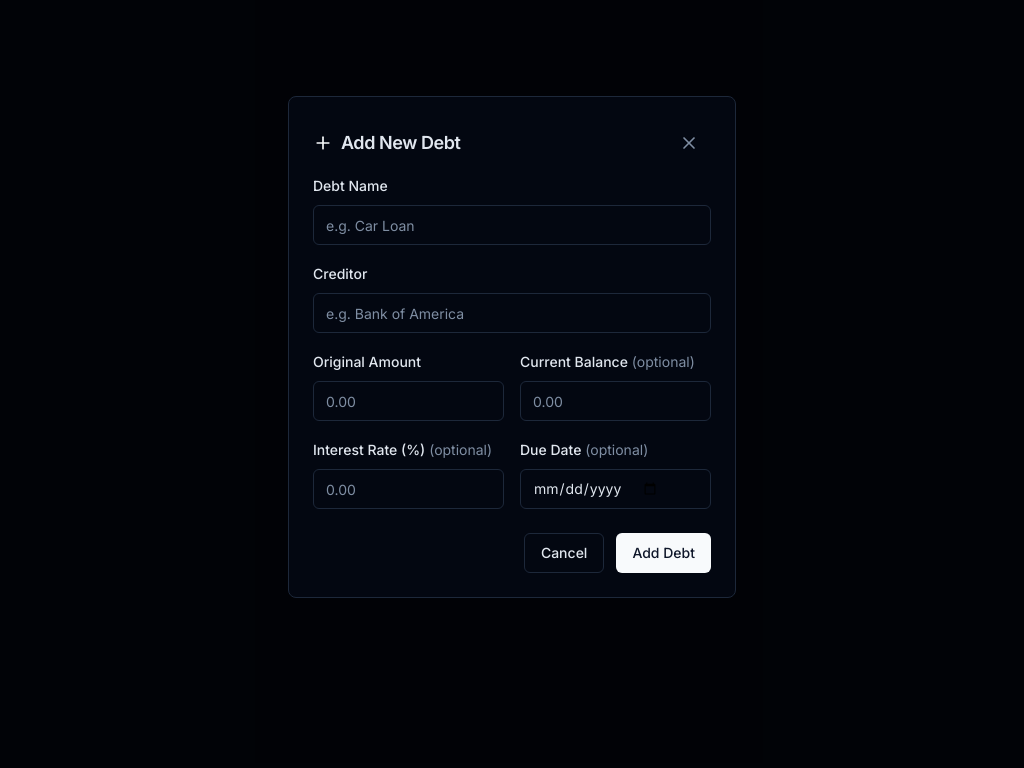
Scenario: DebtDialog - Add Mode › shows validation errors on empty submit
Click the button "Add Debt".
click(664, 553)  # box [616,533,711,573]
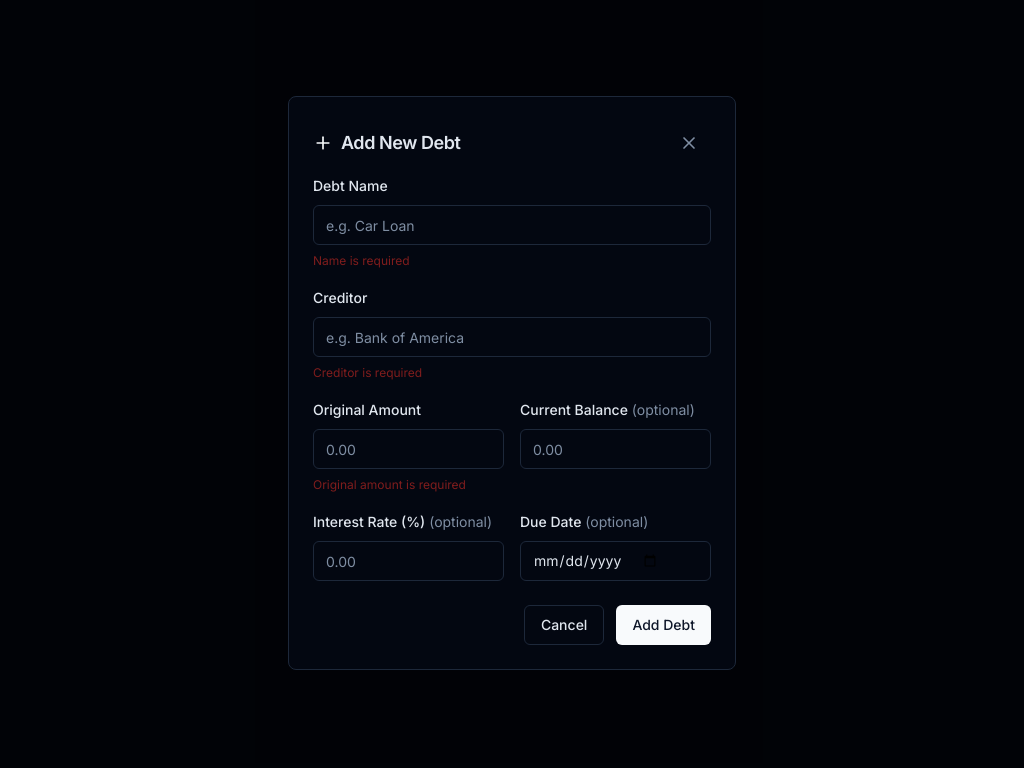
Expected: the text "Name is required" is shown, [313,253,410,268]
Expected: the text "Creditor is required" is shown, [313,365,422,380]
Expected: the text "Original amount is required" is shown, [313,477,466,492]
